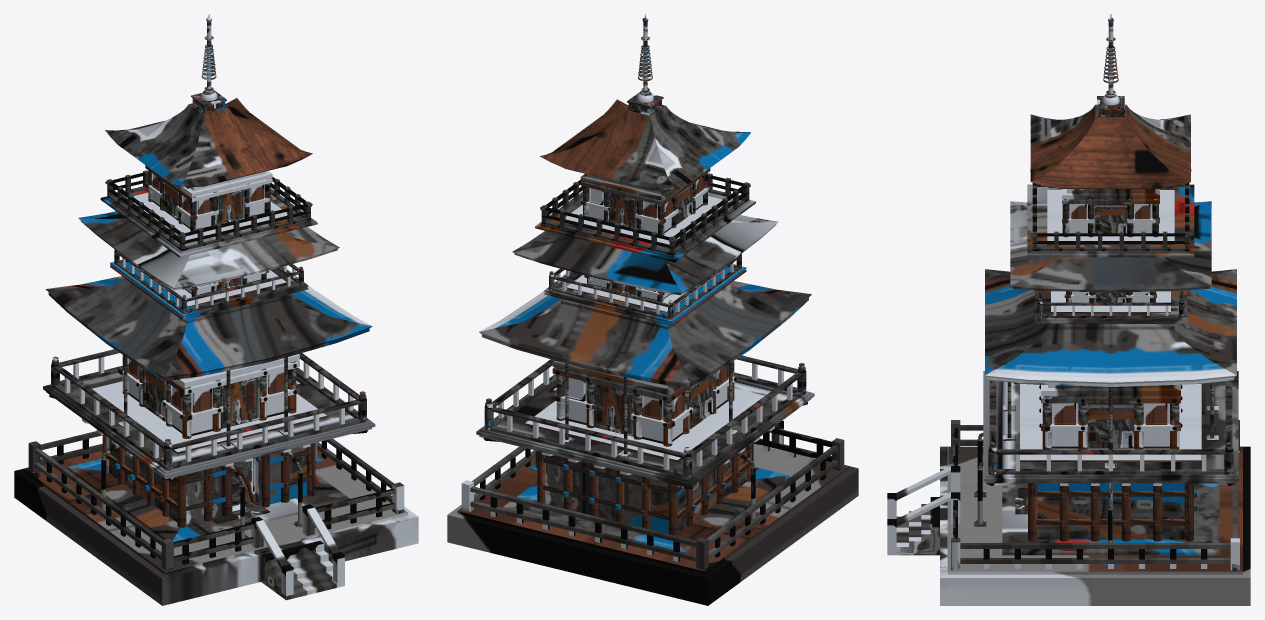
The model's file is japanese temple.obj.
3 renders of one model, left to right at view 1: azimuth 30°, elevation 25°; view 2: azimuth 150°, elevation 25°; view 3: azimuth 270°, elevation 25°, orthographic. The views are drawn at different scales.
Visible parts, largest first — view 1: Japanese_Shrine_Cylinder.030; view 2: Japanese_Shrine_Cylinder.030; view 3: Japanese_Shrine_Cylinder.030.
Part boxes in pixels (x1=…): Japanese_Shrine_Cylinder.030: x1=14, y1=14, x2=418, y2=605; Japanese_Shrine_Cylinder.030: x1=447, y1=14, x2=858, y2=605; Japanese_Shrine_Cylinder.030: x1=887, y1=14, x2=1250, y2=605.
Bounding box in the file's own units: 20 × 37.38 × 23.4.
